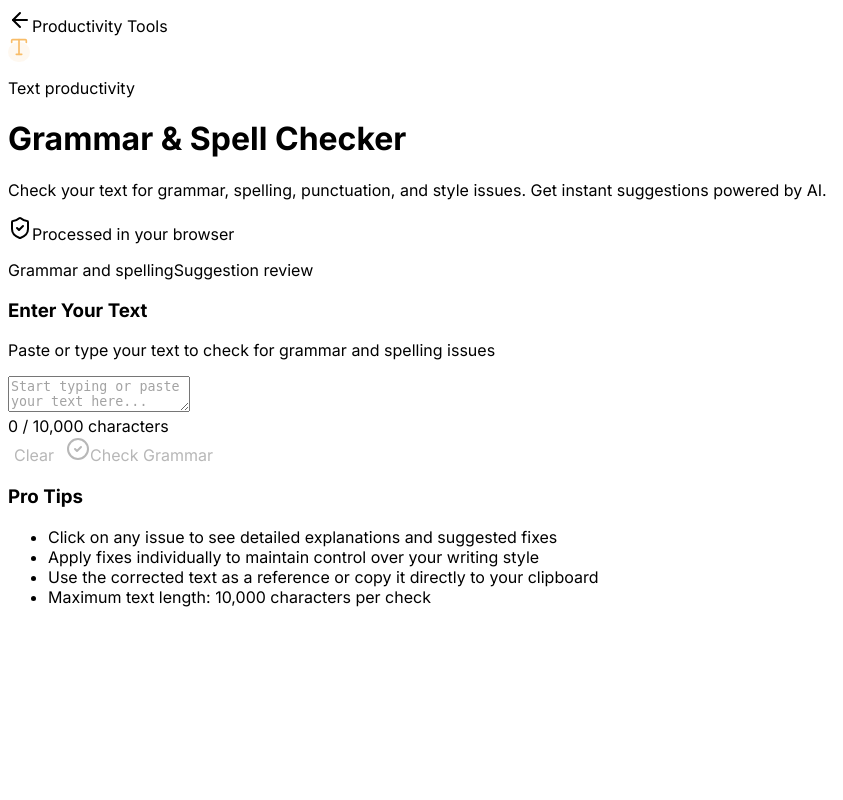
Test: Grammar Checker Page › Grammar Check › displays issues when found
Type "teh cat" into the text box with placeholder "Start typing or paste your text here..." at (99, 394), box [8, 376, 190, 412]
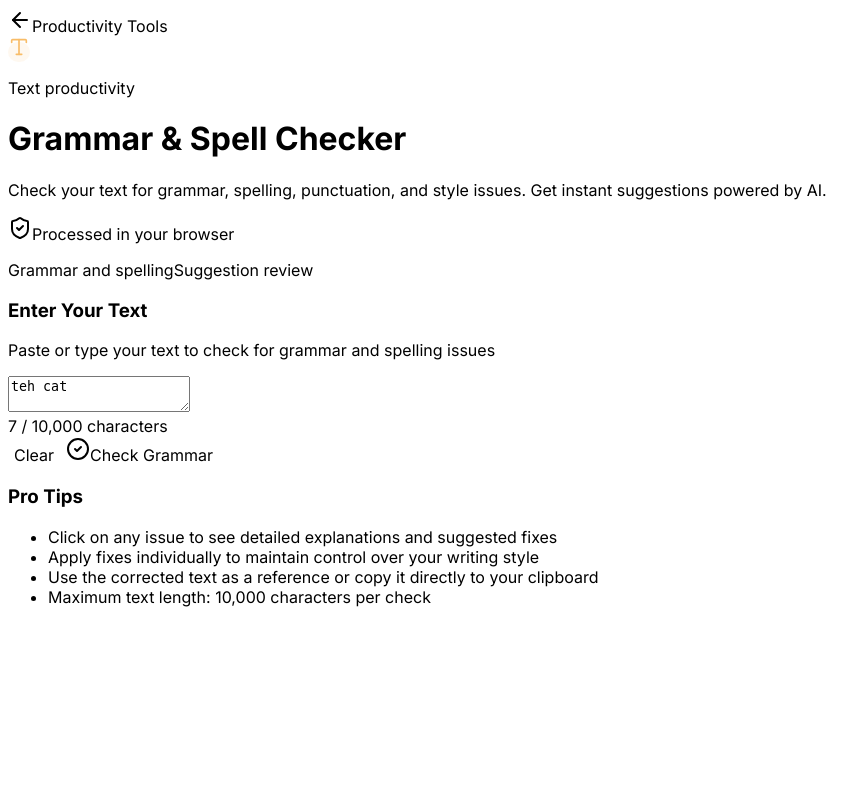
Click the button "Check Grammar" at (140, 451), box [60, 436, 219, 466]
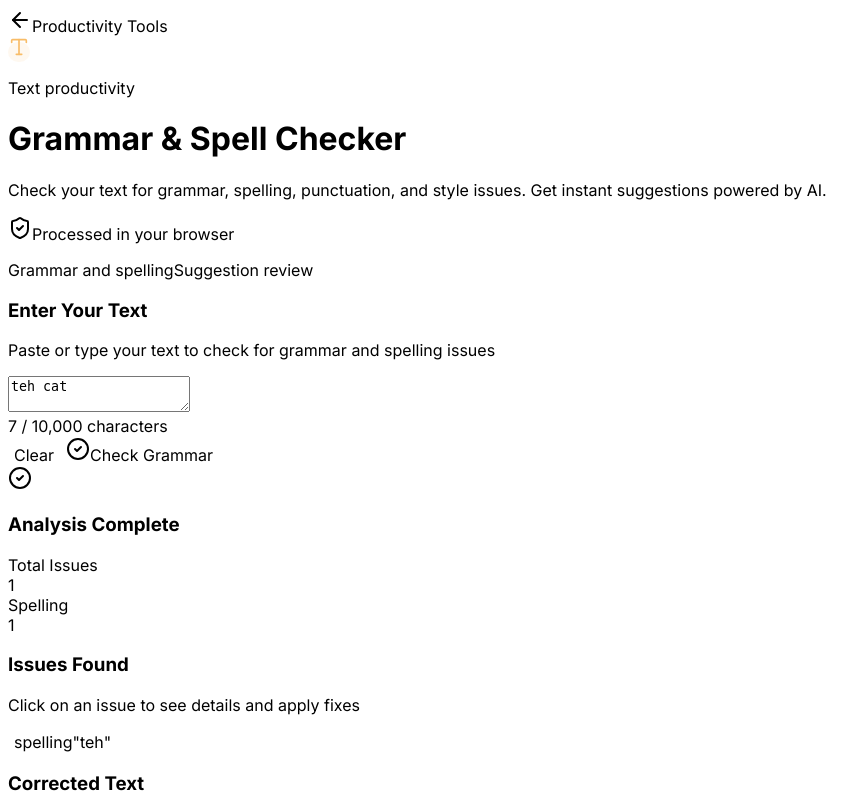
Check: the heading "Issues Found" is shown, box [8, 654, 129, 676]
Check: the text "\"teh\"" is shown, box [72, 732, 111, 752]
Check: the text "spelling" is shown, box [14, 732, 72, 752]
